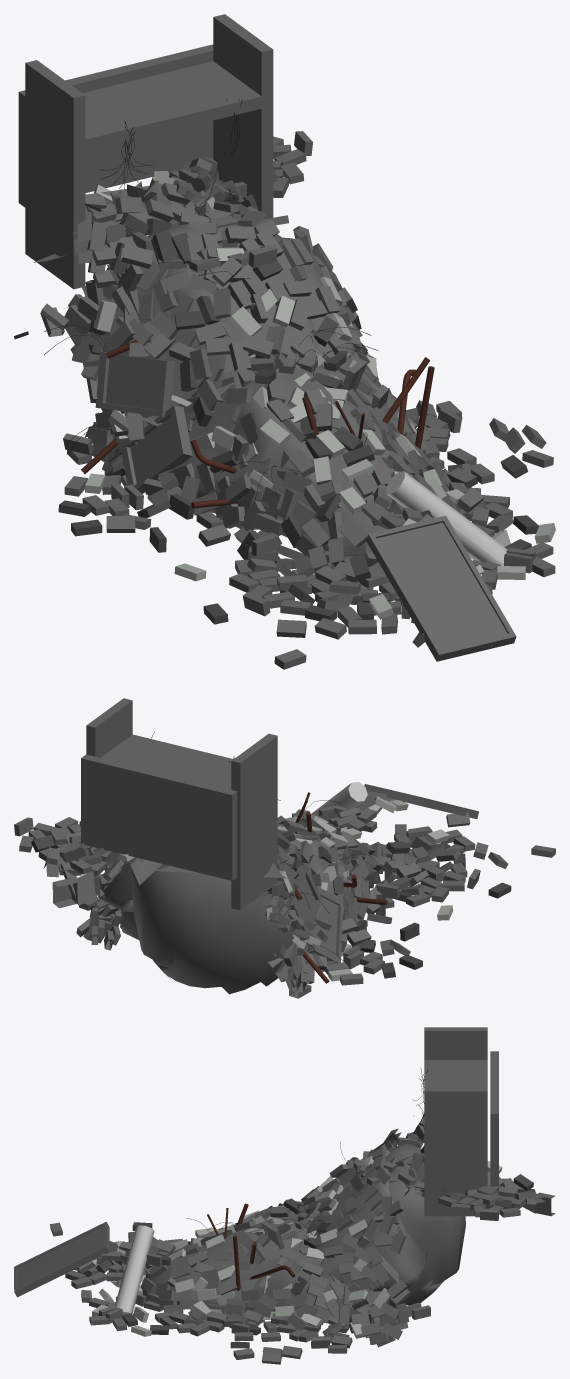
Rendered from destructions2.fbx.
3 renders of one model, top to bottom at view 1: azimuth 30°, elevation 25°; view 2: azimuth 150°, elevation 25°; view 3: azimuth 270°, elevation 25°, orthographic. The views are drawn at different scales.
Parts seen in each view (by area): view 1: Destucructions.001; view 2: Destucructions.001; view 3: Destucructions.001.
Boxes of the visible parts, left/top/right/bottom form: Destucructions.001: left=14, top=14, right=555, bottom=669; Destucructions.001: left=14, top=698, right=555, bottom=998; Destucructions.001: left=14, top=1027, right=555, bottom=1364.
Size of the model in its own units: 704 by 540 by 1129.
